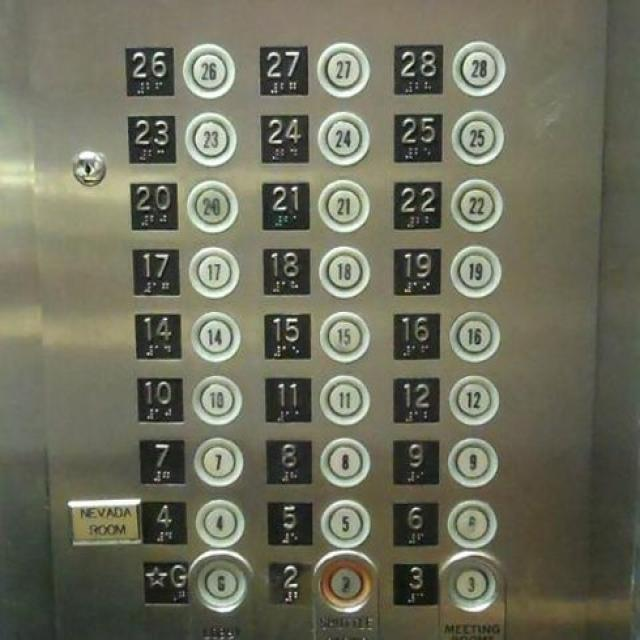10: (189, 371, 243, 425), (132, 372, 184, 424)
11: (316, 371, 370, 424), (260, 371, 313, 424)
12: (444, 372, 502, 425), (387, 372, 444, 425)
14: (129, 308, 184, 361), (188, 308, 243, 361)
15: (258, 306, 314, 362), (315, 306, 371, 362)
16: (388, 306, 444, 362), (446, 306, 502, 362)
17: (127, 242, 183, 298), (184, 242, 240, 298)
18: (256, 242, 312, 298), (316, 242, 372, 298)
19: (388, 240, 444, 296), (447, 242, 503, 298)
2: (311, 545, 380, 616), (264, 557, 309, 607)
20: (123, 176, 179, 232), (184, 176, 240, 232)
21: (256, 176, 312, 232), (314, 176, 369, 232)
22: (390, 174, 446, 230), (447, 174, 503, 230)
23: (180, 110, 237, 166), (123, 110, 179, 166)
24: (256, 108, 312, 164), (315, 108, 371, 164)
25: (390, 106, 446, 162), (448, 108, 504, 164)
26: (179, 40, 235, 99), (120, 42, 176, 98)
27: (253, 42, 310, 98), (314, 40, 369, 96)
28: (388, 40, 444, 96), (448, 39, 504, 94)
3: (435, 545, 504, 612), (385, 555, 440, 608)
4: (136, 496, 188, 548), (192, 494, 244, 546)
5: (262, 496, 314, 547), (318, 496, 370, 547)
6: (386, 495, 442, 548)
7: (134, 434, 187, 486), (190, 434, 242, 486)
8: (316, 433, 371, 487), (262, 435, 314, 485)
9: (388, 433, 443, 487), (442, 435, 498, 488)
G: (187, 546, 254, 614)
blur: (444, 496, 499, 549)
keyhole: (67, 145, 107, 191)
sG: (136, 554, 188, 606)
